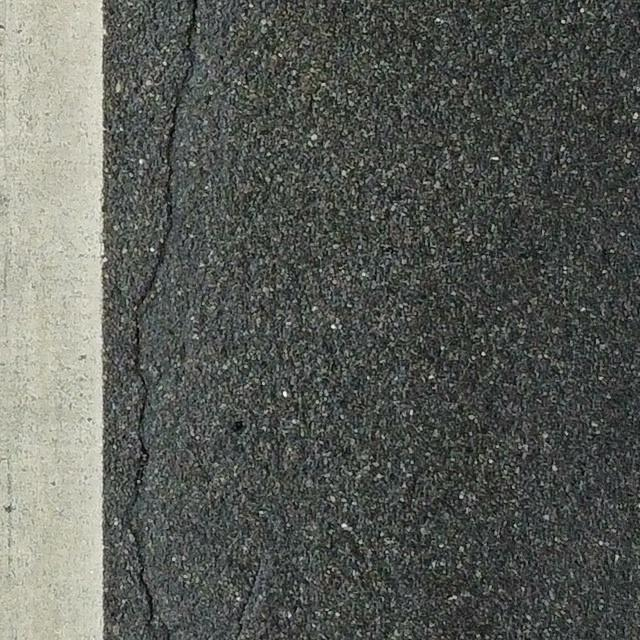LongitudinalCrack: (124, 1, 198, 633)
